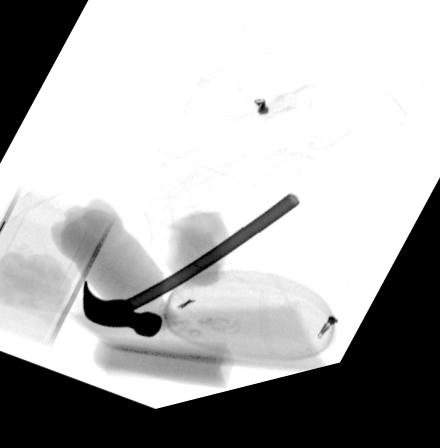Hammer: (82, 208, 300, 345)
